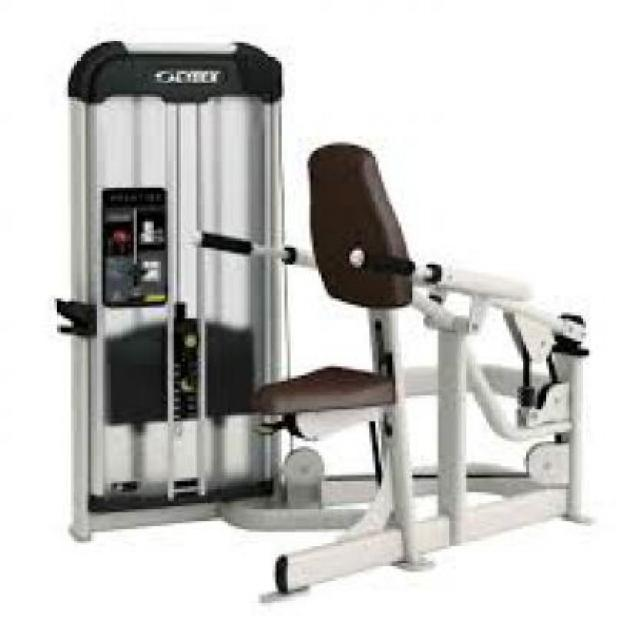seated dip machine: (31, 23, 603, 605)
